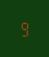nine: (19, 20, 28, 36)
